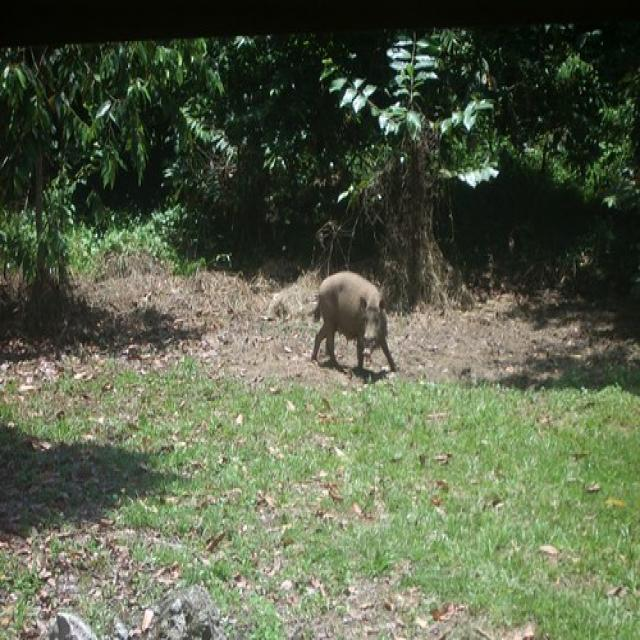boar: (293, 252, 411, 389)
